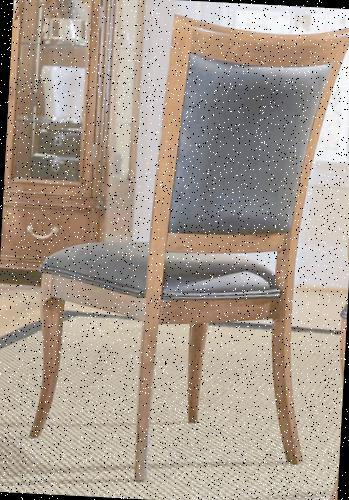Silla: (31, 13, 348, 493)
